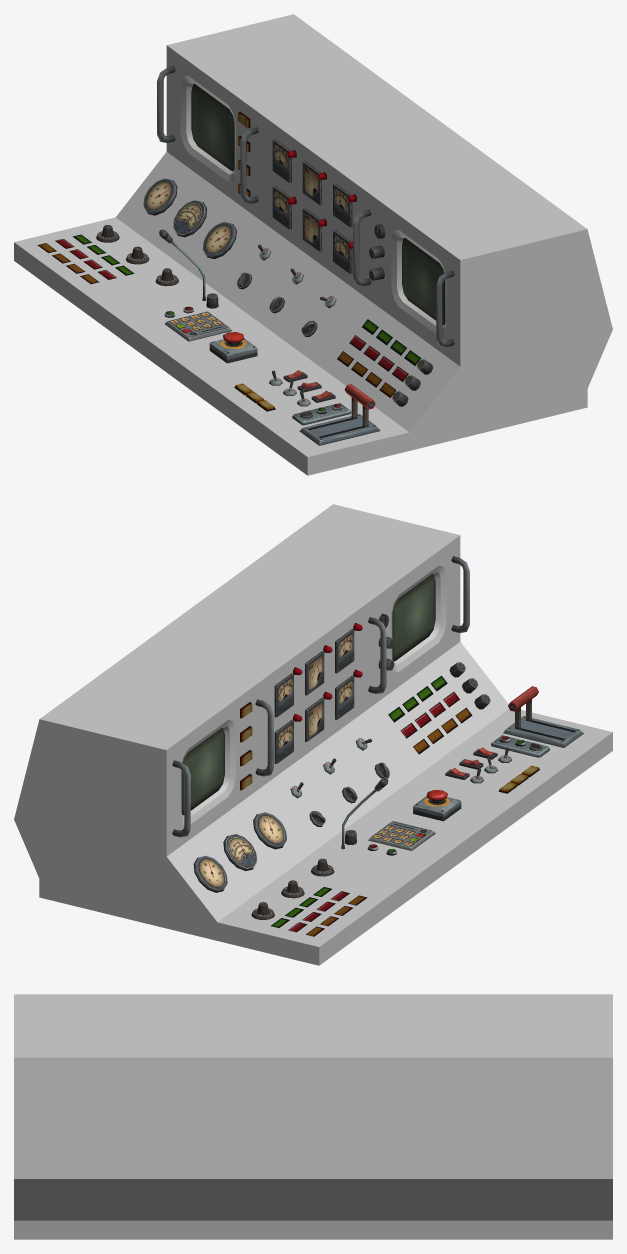
File: ctrlPanel_middle01_A.FBX
The picture shows the model from 3 angles, top to bottom: view 1: azimuth 30°, elevation 25°; view 2: azimuth 150°, elevation 25°; view 3: azimuth 270°, elevation 25°; orthographic projection.
Visible parts, largest first — view 1: ctrlPanel_middle01_A, ctrlPanel_gauges, ctrlPanel_buttons, screen_computer01, screen_computer02; view 2: ctrlPanel_middle01_A, ctrlPanel_gauges, ctrlPanel_buttons, screen_computer02, screen_computer01; view 3: ctrlPanel_middle01_A.
Boxes of the visible parts, x1,y1,x2,y2 form: ctrlPanel_middle01_A: (14,14,612,475); ctrlPanel_gauges: (143,139,352,274); ctrlPanel_buttons: (37,112,421,414); screen_computer01: (191,83,234,171); screen_computer02: (402,238,445,325); ctrlPanel_middle01_A: (14,504,612,965); ctrlPanel_gauges: (193,629,354,892); ctrlPanel_buttons: (240,623,539,936); screen_computer02: (392,573,435,661); screen_computer01: (181,728,224,815); ctrlPanel_middle01_A: (14,994,612,1239).
Size of the model in its own units: 120 by 67 by 200.
